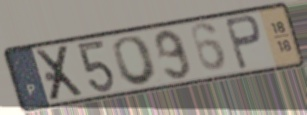5: (73, 38, 117, 94)
6: (190, 20, 229, 78)
9: (153, 28, 193, 82)
O: (111, 33, 161, 87)
P: (222, 13, 264, 72)
X: (34, 43, 87, 104)
